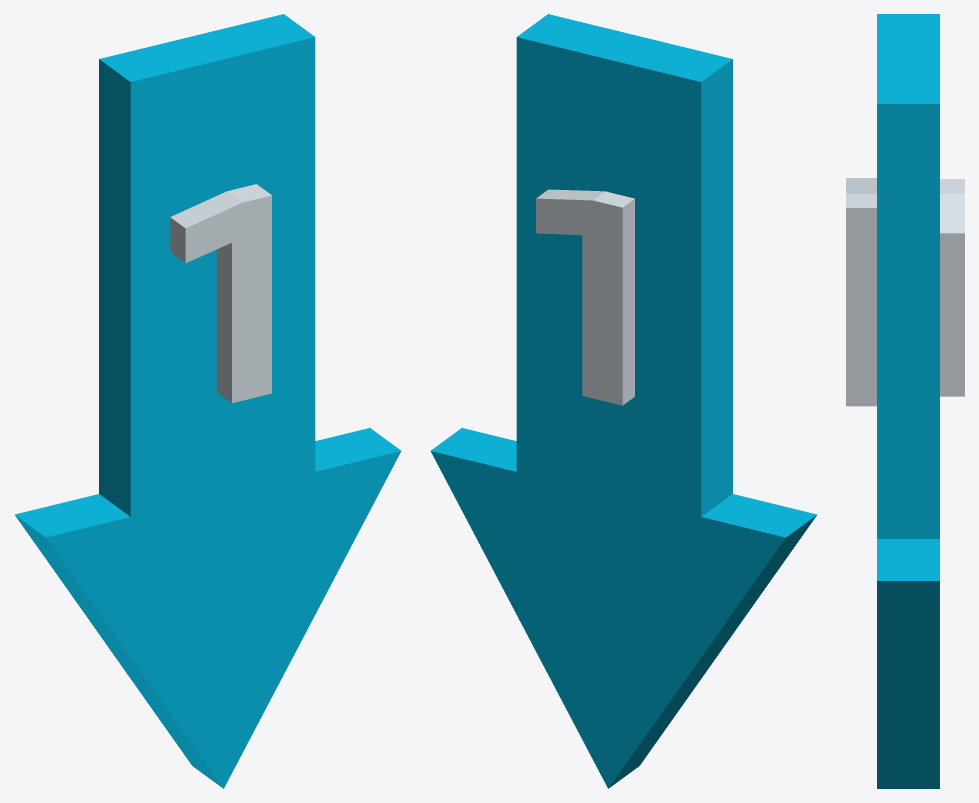
File: arrow_blue.glb
The picture shows the model from 3 angles, left to right: view 1: azimuth 30°, elevation 25°; view 2: azimuth 150°, elevation 25°; view 3: azimuth 270°, elevation 25°; orthographic projection.
Visible parts, largest first — view 1: Arrow_6, Cap 1_4, object 4; view 2: Arrow_6, Cap 2_2, object 1; view 3: Arrow_6, object 4, object 1.
Boxes of the visible parts, left/top/right/bottom form: Arrow_6: left=15, top=14, right=401, bottom=788; Cap 1_4: left=185, top=195, right=271, bottom=403; object 4: left=170, top=184, right=271, bottom=402; Arrow_6: left=430, top=14, right=816, bottom=788; Cap 2_2: left=536, top=198, right=622, bottom=405; object 1: left=536, top=189, right=634, bottom=405; Arrow_6: left=877, top=14, right=939, bottom=788; object 4: left=846, top=178, right=876, bottom=406; object 1: left=940, top=179, right=964, bottom=396.
Size of the model in its own units: 0.326 by 0.6391 by 0.0944.
